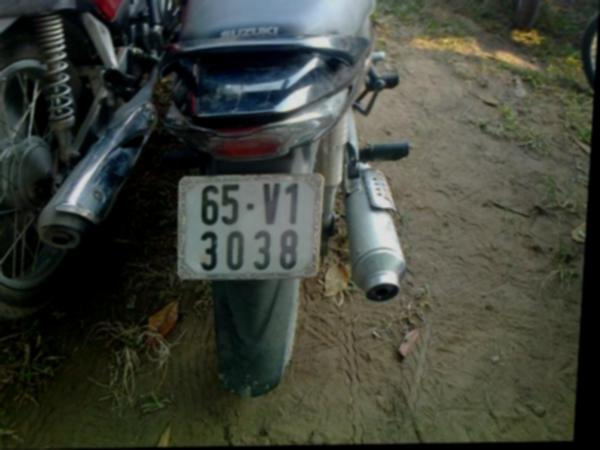License_Plate: (176, 174, 321, 274)
